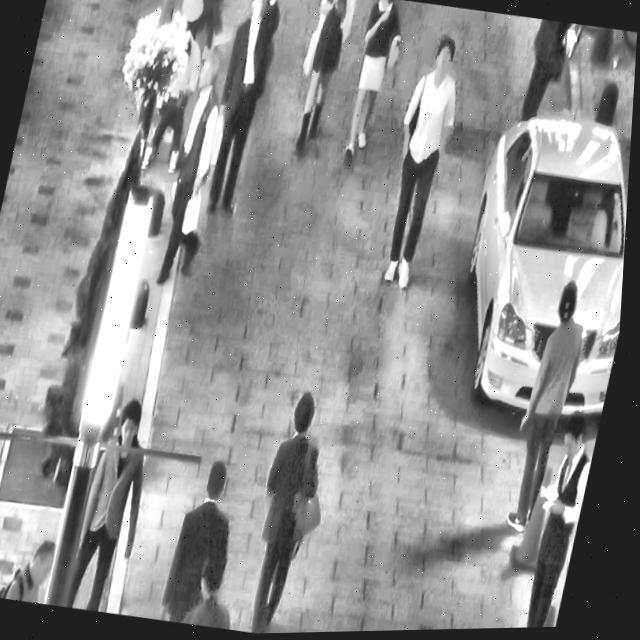light_vehicle: (433, 89, 635, 438)
